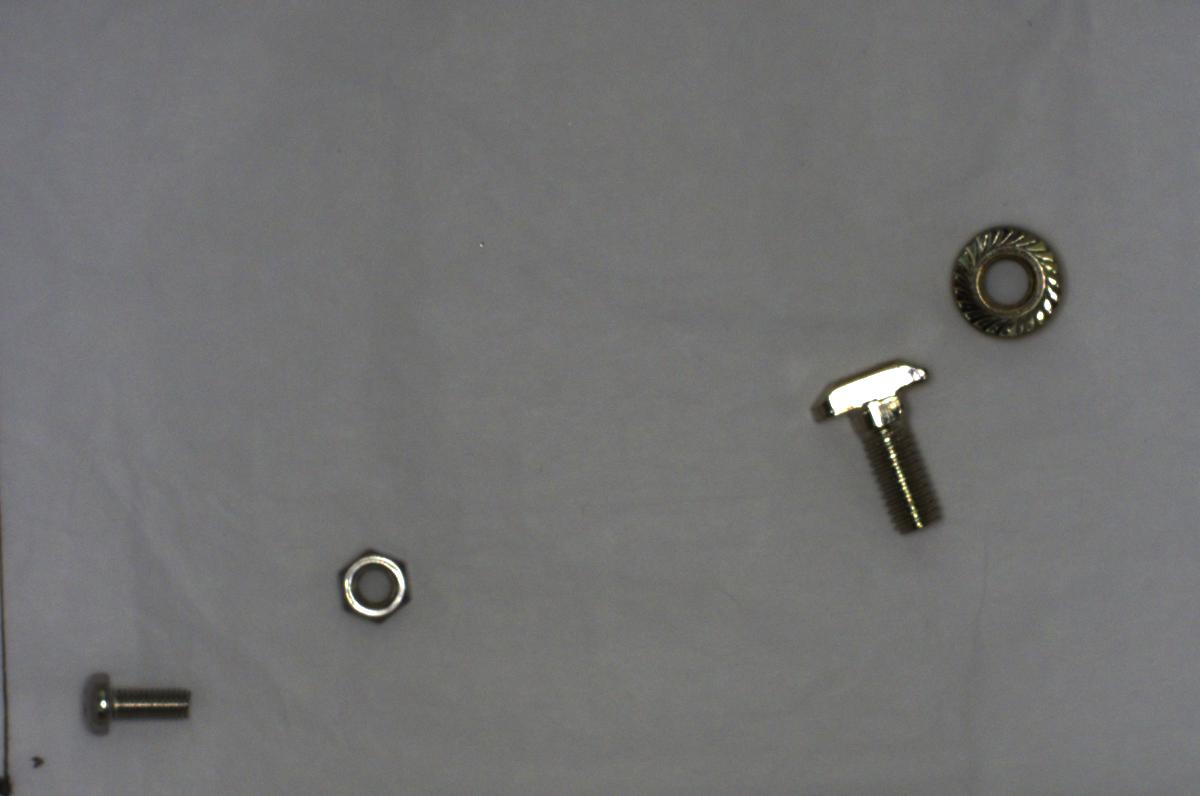Flange nut: (947, 215, 1072, 340)
Hexagon nut: (332, 543, 420, 626)
Round head screw: (75, 660, 199, 745)
T-shaped screw: (811, 352, 953, 545)
